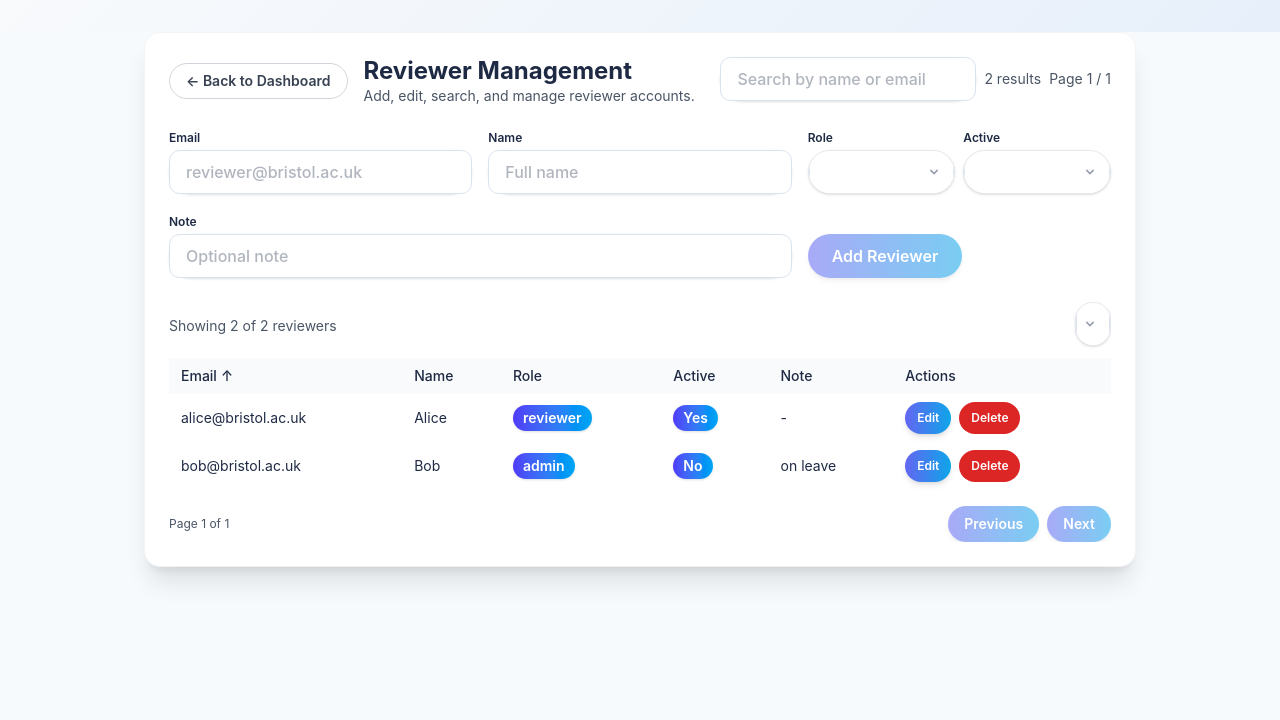
it: ReviewerAdminPage › can open delete confirm modal for Alice
The width and height of the screenshot is (1280, 720).
Click the button with aria-label "delete alice@bristol.ac.uk": x=990, y=418 [959,402,1020,434]
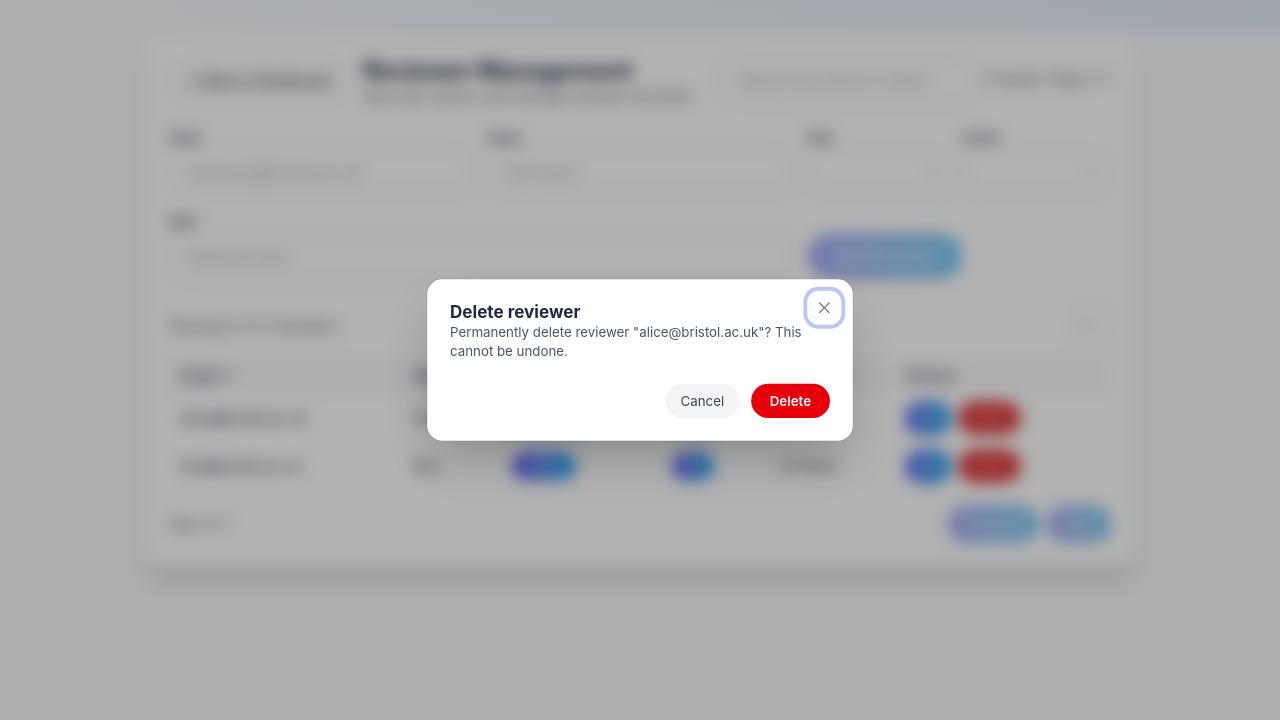
Expected: the dialog "Delete reviewer" is shown
